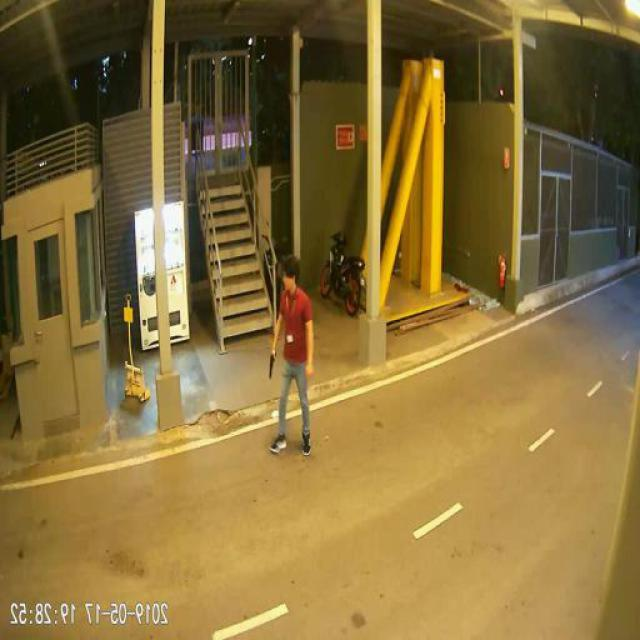weapon: (267, 348, 279, 380)
